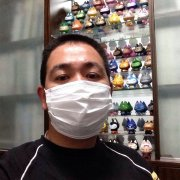face_mask: (46, 43, 109, 135)
